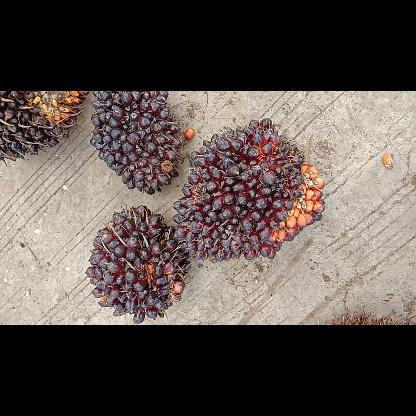TBS mentah: (170, 116, 328, 262), (83, 202, 191, 324), (87, 91, 187, 197)
